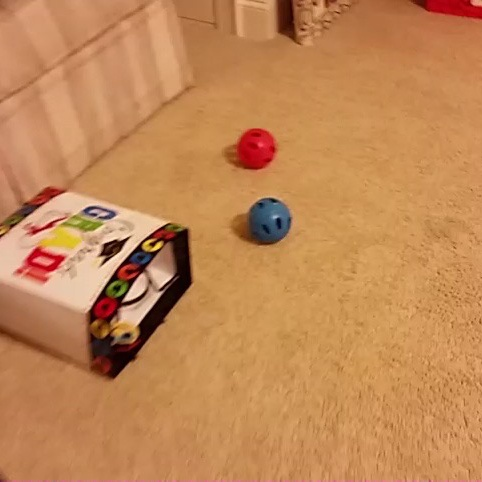ball: (245, 194, 294, 246), (234, 125, 280, 172)
